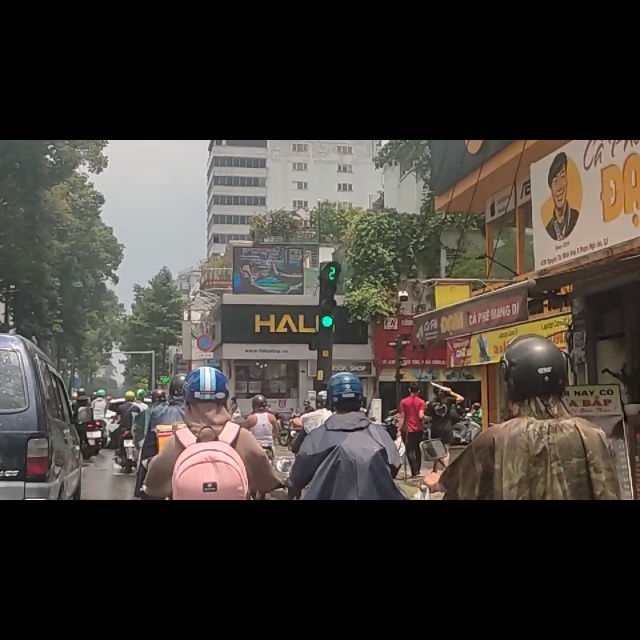bien_cam: (195, 344, 215, 379)
